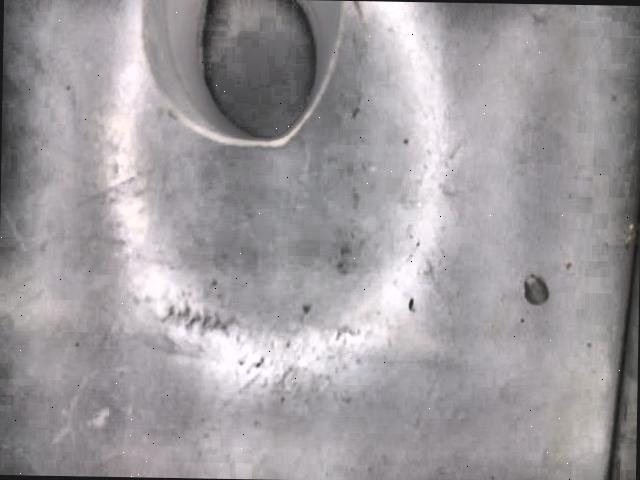Paper: (139, 0, 342, 147)
